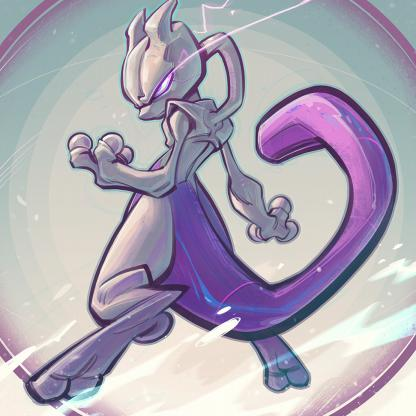Mewtwo: (48, 7, 397, 416)
